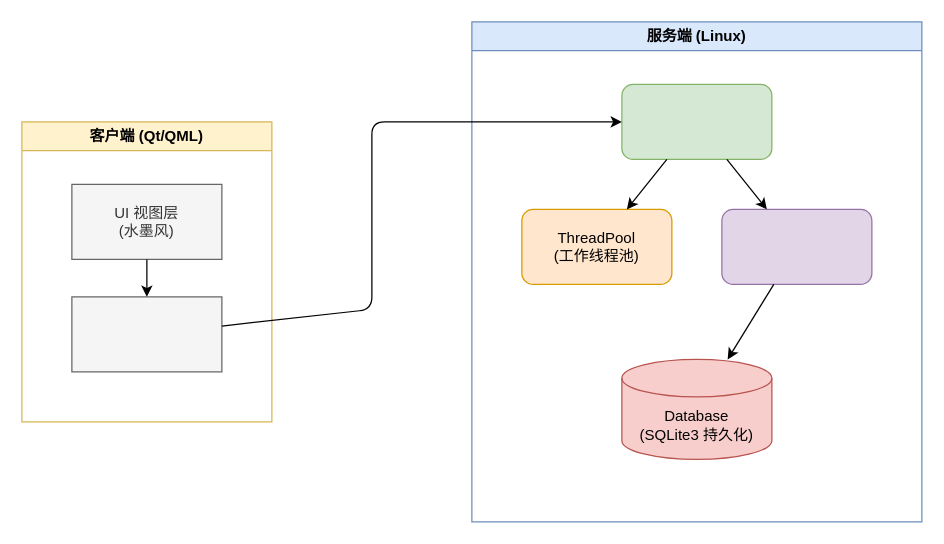
The diagram is 944 pixels wide and 544 high, and some of its shapes have lost their labels. Here are the shapes that lost their labels. From the top down, the centre of each, then its label:
At pixel 696 121: "EpollServer (核心事件循环)".
At pixel 796 246: "MessageRouter (消息路由转发)".
At pixel 146 334: "网络通信层 (TCP Socket)".
